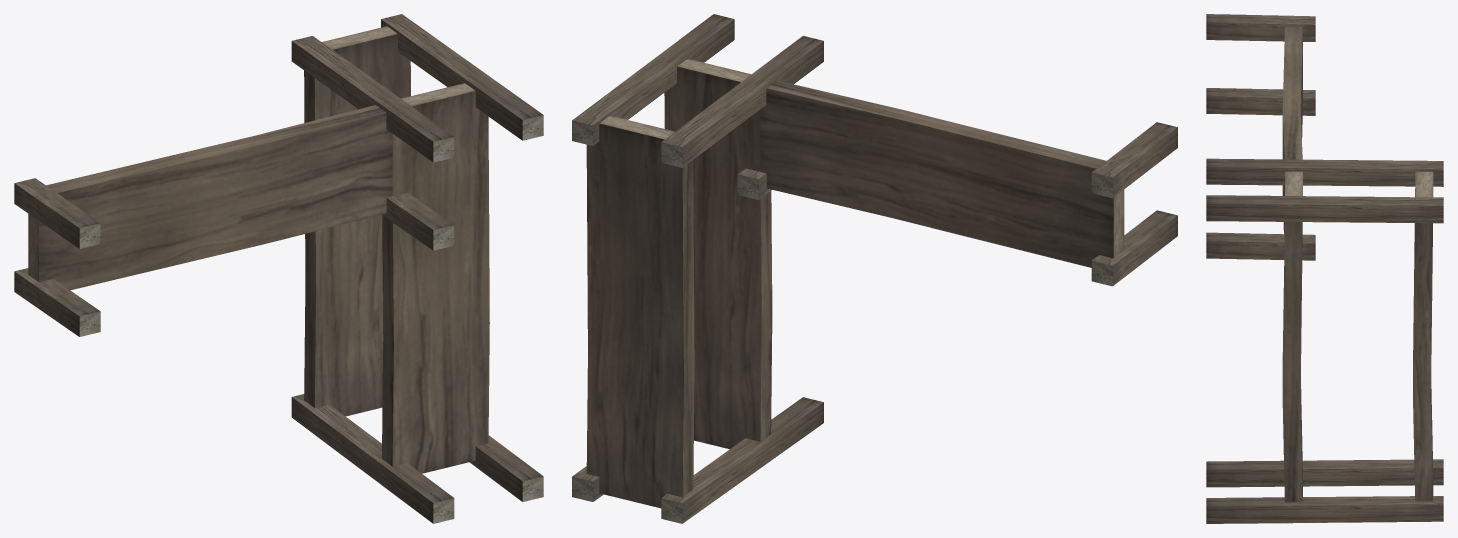
Rendered from Counter_Corner_R_B.fbx.
3 views of the same model, side by side, from view 1: azimuth 30°, elevation 25°; view 2: azimuth 150°, elevation 25°; view 3: azimuth 270°, elevation 25° (orthographic). The views are drawn at different scales.
Parts seen in each view (by area): view 1: Counter_Corner_R_B; view 2: Counter_Corner_R_B; view 3: Counter_Corner_R_B.
Part boxes in pixels (bbox=[...]): Counter_Corner_R_B: bbox=[14, 14, 543, 523]; Counter_Corner_R_B: bbox=[572, 14, 1177, 523]; Counter_Corner_R_B: bbox=[1206, 14, 1443, 523].
Bounding box in the file's own units: 4.29 × 3.37 × 2.27.
